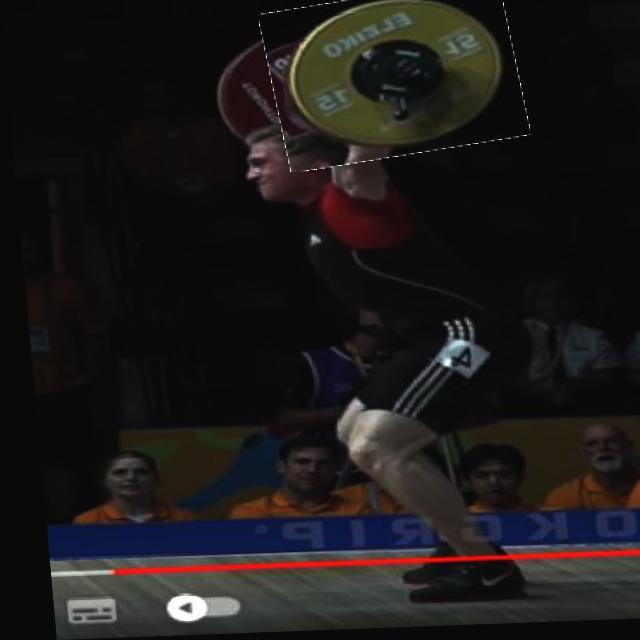barbell: (261, 1, 525, 169)
